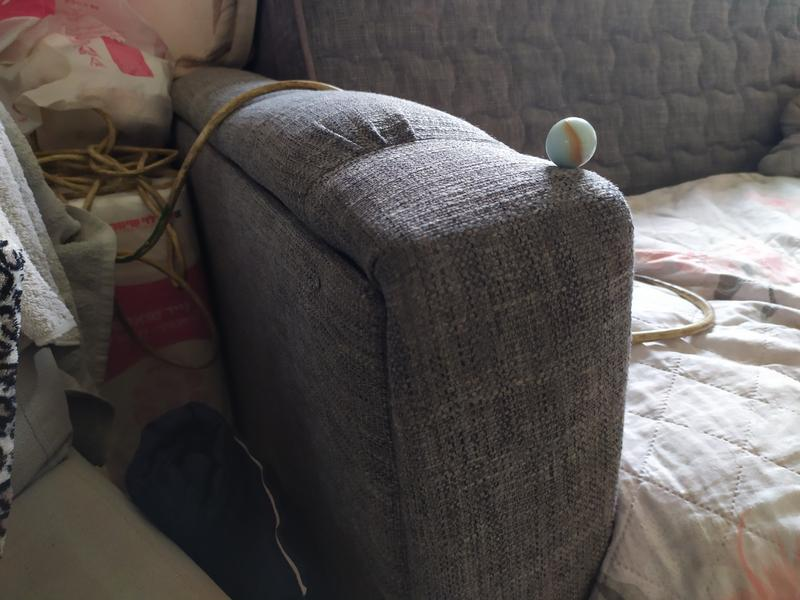Warning: (544, 115, 599, 170)
